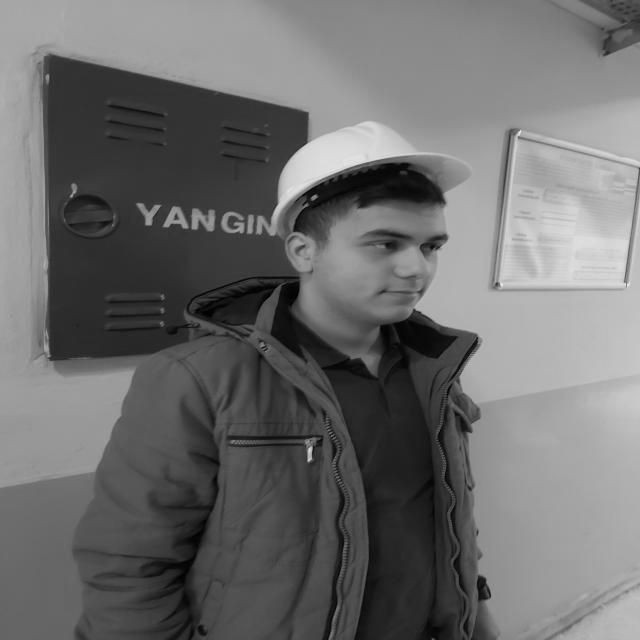construction helmet: (273, 123, 473, 237)
